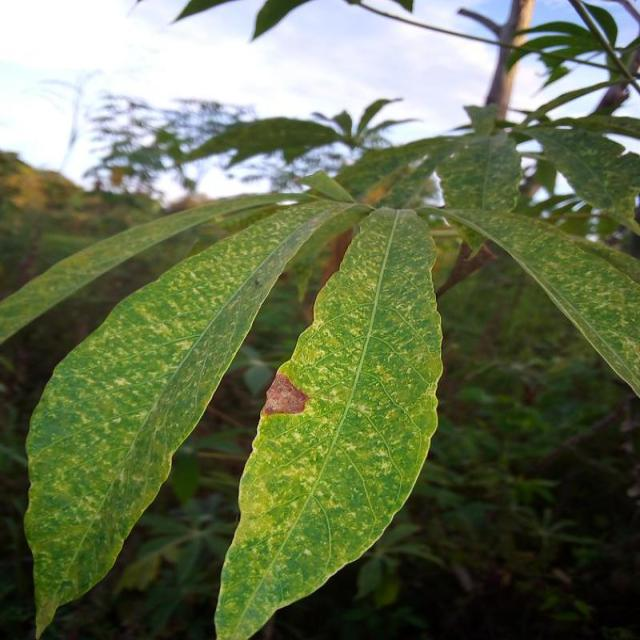cassava leaf: (22, 194, 372, 637), (213, 204, 444, 638)
